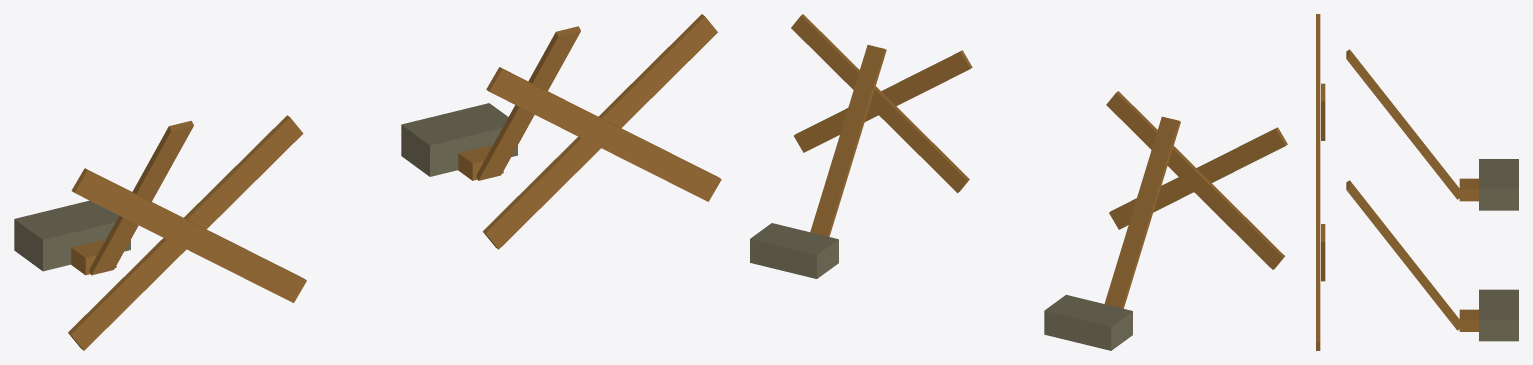
The model's file is SM_ObraPuertaApuntalada_v4_8m_LOD0.fbx.
The picture shows the model from 3 angles, left to right: view 1: azimuth 30°, elevation 25°; view 2: azimuth 150°, elevation 25°; view 3: azimuth 270°, elevation 25°; orthographic projection. The views are drawn at different scales.
Parts seen in each view (by area): view 1: SM_obra_curso_v38_LOD0; view 2: SM_obra_curso_v38_LOD0; view 3: SM_obra_curso_v38_LOD0.
Part boxes in pixels (bbox=[...]): SM_obra_curso_v38_LOD0: bbox=[14, 14, 721, 350]; SM_obra_curso_v38_LOD0: bbox=[750, 14, 1287, 350]; SM_obra_curso_v38_LOD0: bbox=[1316, 14, 1518, 350].
Size of the model in its own units: 6.24 by 1.9 by 2.44.
